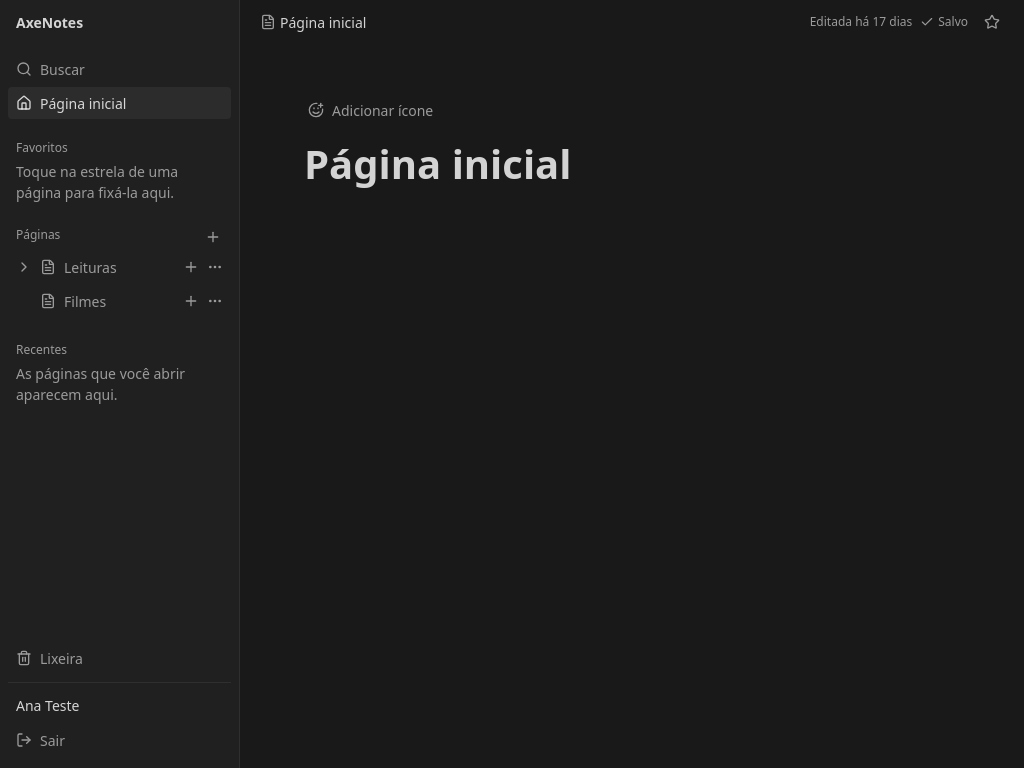
Test: favoritar pela árvore › rolls back and warns in the sidebar when adding fails
Check: the text "Toque na estrela de uma página para fixá-la aqui." is shown, box [16,162,178,202]
Click the button named "Mais ações de Filmes". click: x=215, y=301
box: [203,287,227,315]
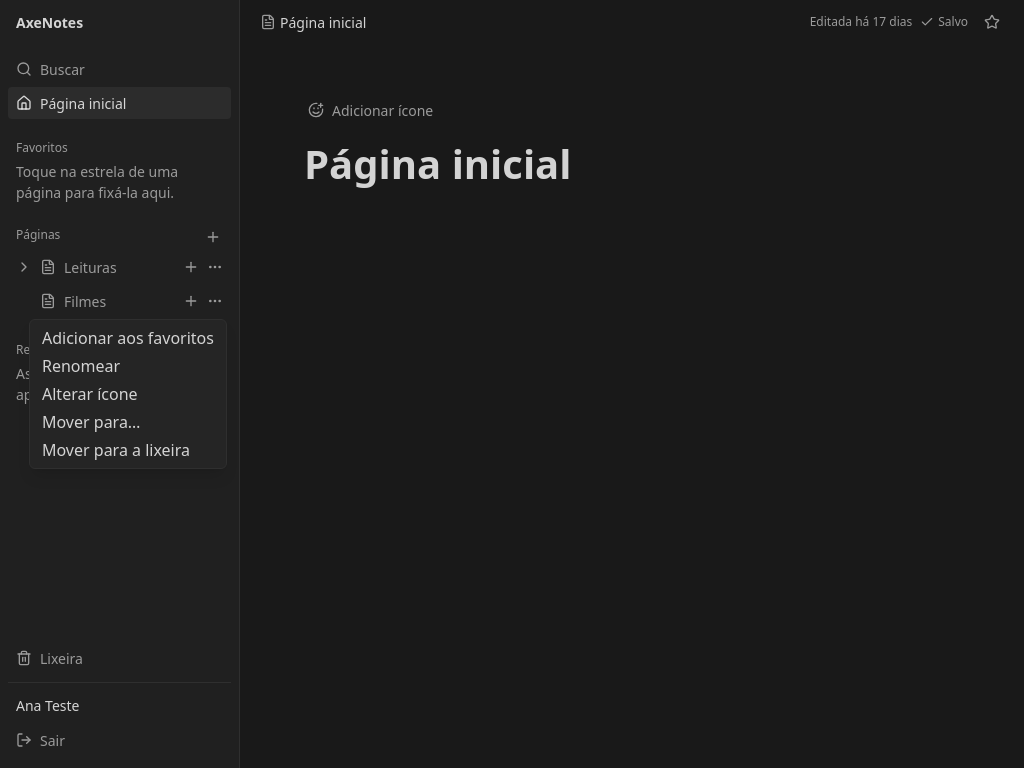
Click the menu item "Adicionar aos favoritos". click: x=128, y=338
box: [34,324,222,352]
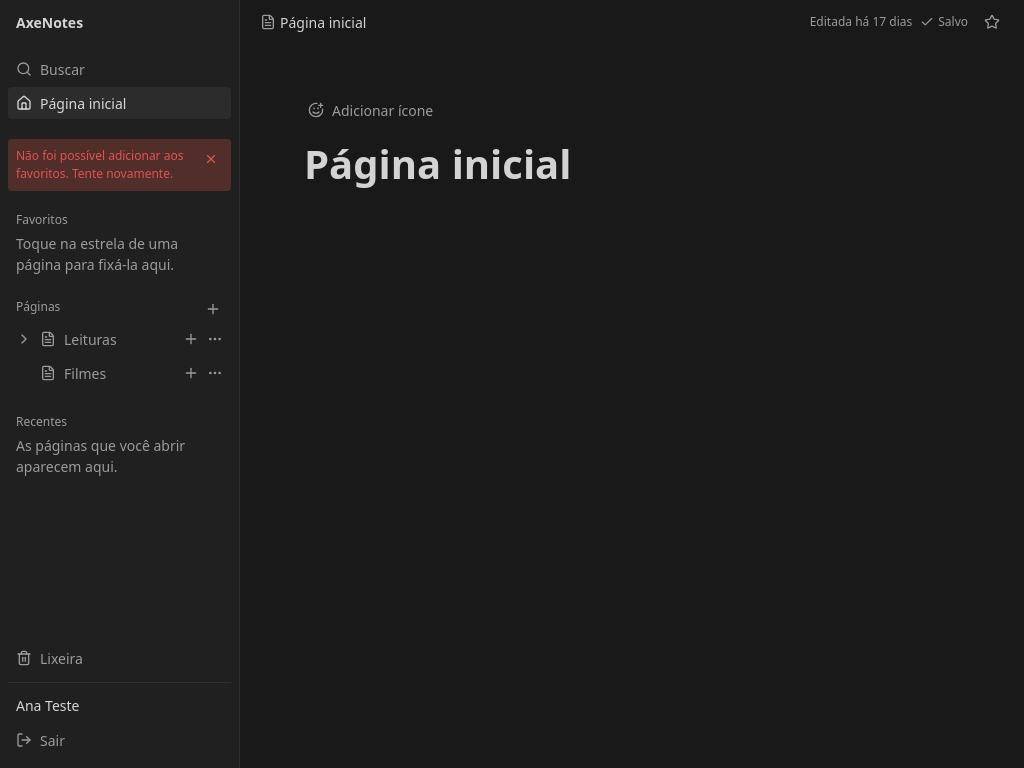
Check: the text "Não foi possível adicionar aos favoritos. Tente novamente." is shown, box [16,143,191,187]
